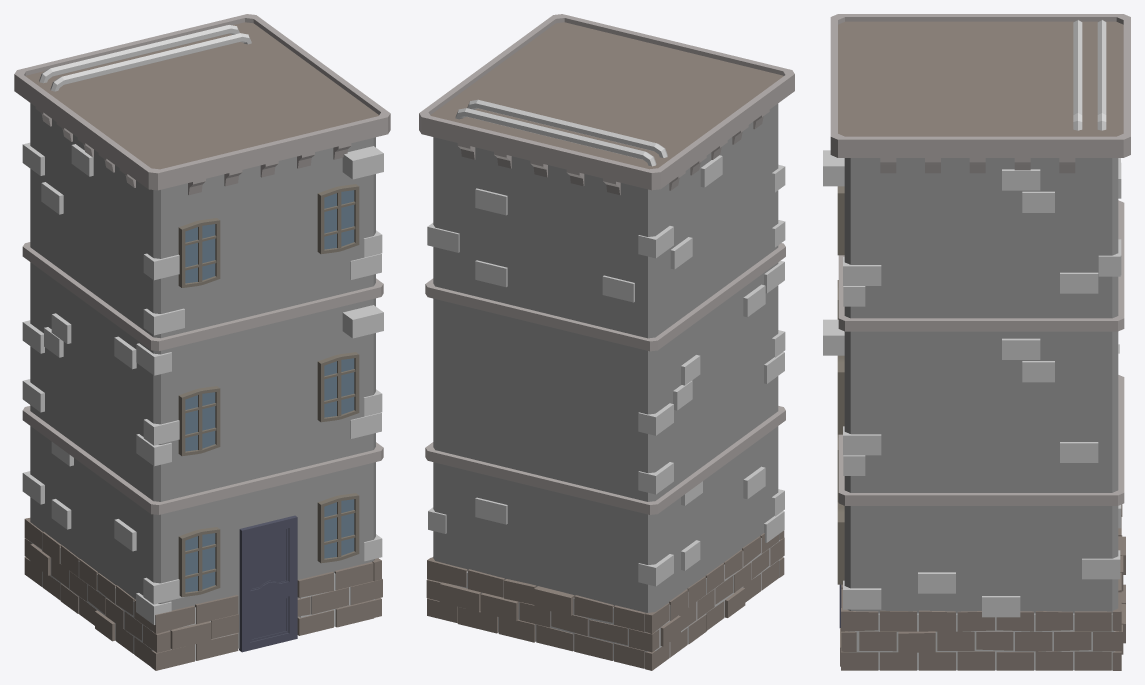
File: three-story-small.glb
3 views of the same model, side by side, from view 1: azimuth 30°, elevation 25°; view 2: azimuth 150°, elevation 25°; view 3: azimuth 270°, elevation 25° (orthographic). The views are drawn at different scales.
Visible parts, largest first — view 1: 3Story_Small_Cube.145; view 2: 3Story_Small_Cube.145; view 3: 3Story_Small_Cube.145.
Part boxes in pixels (x1=…): 3Story_Small_Cube.145: x1=14, y1=14, x2=390, y2=670; 3Story_Small_Cube.145: x1=419, y1=14, x2=794, y2=670; 3Story_Small_Cube.145: x1=823, y1=14, x2=1130, y2=670.
Size of the model in its own units: 1.91 by 3.85 by 1.97.
1 material, 1 textured.
